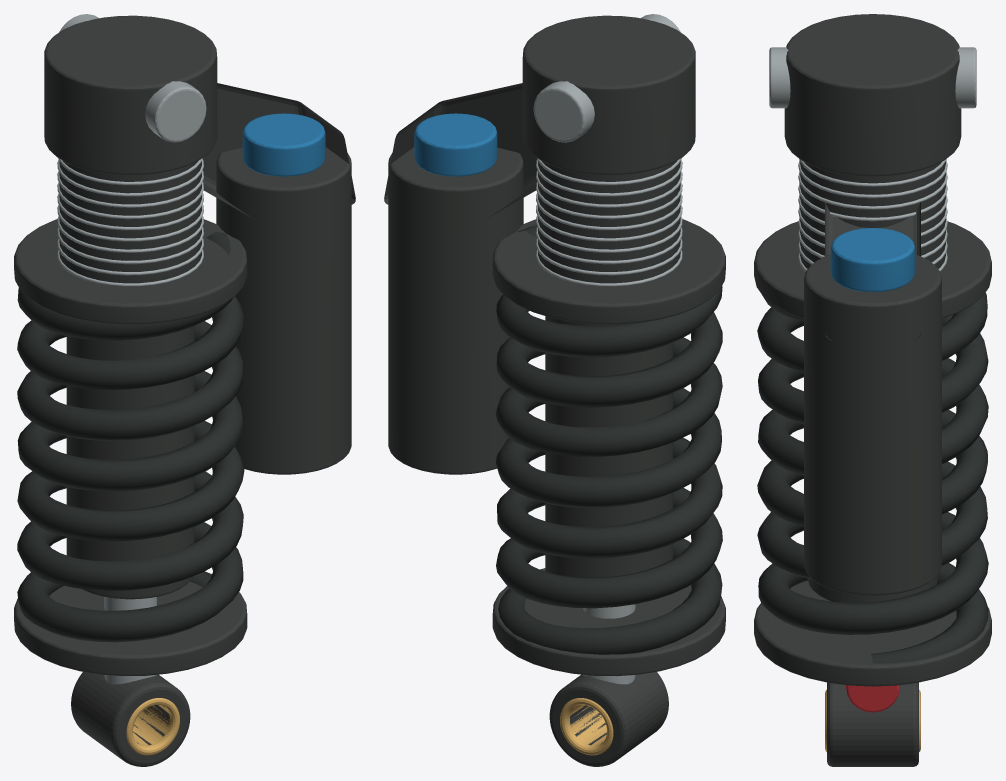
Rendered from marzocchi-bomber-cr--323f6acf.glb.
3 renders of one model, left to right at view 1: azimuth 30°, elevation 25°; view 2: azimuth 150°, elevation 25°; view 3: azimuth 270°, elevation 25°, orthographic.
Parts seen in each view (by area): view 1: marzocchi-bomber-cr--323f6acf__link, marzocchi-bomber-cr--323f6acf__coil, marzocchi-bomber-cr--323f6acf__bolts, marzocchi-bomber-cr--323f6acf__adjuster, marzocchi-bomber-cr--323f6acf__stanchions; view 2: marzocchi-bomber-cr--323f6acf__link, marzocchi-bomber-cr--323f6acf__coil, marzocchi-bomber-cr--323f6acf__bolts, marzocchi-bomber-cr--323f6acf__adjuster, marzocchi-bomber-cr--323f6acf__stanchions; view 3: marzocchi-bomber-cr--323f6acf__link, marzocchi-bomber-cr--323f6acf__coil, marzocchi-bomber-cr--323f6acf__bolts, marzocchi-bomber-cr--323f6acf__adjuster, marzocchi-bomber-cr--323f6acf__rebound.
Boxes of the visible parts, bbox=[...] form: marzocchi-bomber-cr--323f6acf__link: bbox=[14, 15, 355, 766]; marzocchi-bomber-cr--323f6acf__coil: bbox=[17, 231, 244, 642]; marzocchi-bomber-cr--323f6acf__bolts: bbox=[57, 14, 206, 684]; marzocchi-bomber-cr--323f6acf__adjuster: bbox=[242, 113, 325, 176]; marzocchi-bomber-cr--323f6acf__stanchions: bbox=[126, 698, 179, 755]; marzocchi-bomber-cr--323f6acf__link: bbox=[384, 15, 725, 766]; marzocchi-bomber-cr--323f6acf__coil: bbox=[495, 225, 722, 654]; marzocchi-bomber-cr--323f6acf__bolts: bbox=[533, 14, 682, 684]; marzocchi-bomber-cr--323f6acf__adjuster: bbox=[414, 113, 497, 176]; marzocchi-bomber-cr--323f6acf__stanchions: bbox=[560, 698, 613, 755]; marzocchi-bomber-cr--323f6acf__link: bbox=[754, 14, 991, 766]; marzocchi-bomber-cr--323f6acf__coil: bbox=[757, 292, 988, 663]; marzocchi-bomber-cr--323f6acf__bolts: bbox=[769, 47, 976, 271]; marzocchi-bomber-cr--323f6acf__adjuster: bbox=[830, 228, 915, 292]; marzocchi-bomber-cr--323f6acf__rebound: bbox=[846, 685, 899, 712].
Size of the model in its own units: 0.096 by 0.205 by 0.062.
